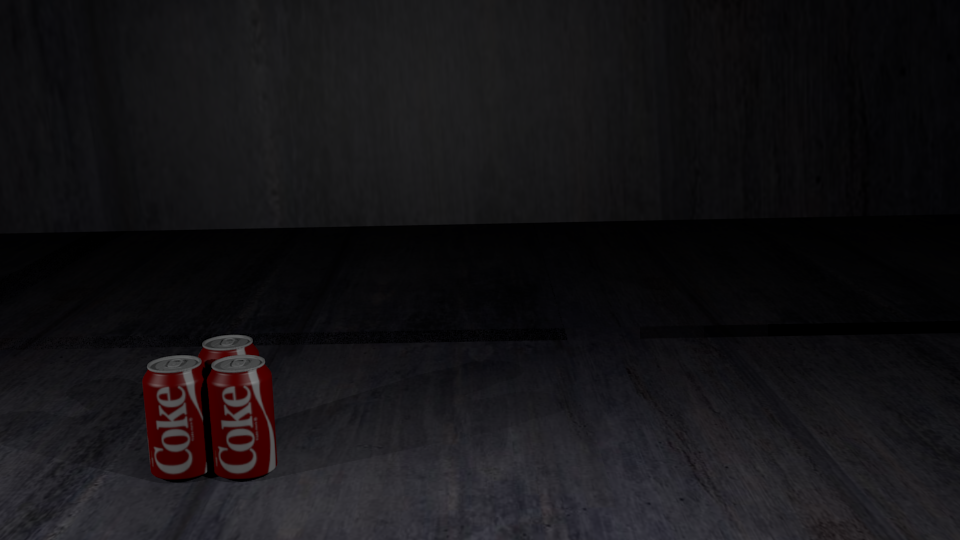cola_can: (142, 356, 210, 476), (207, 355, 274, 475), (198, 335, 257, 449)
